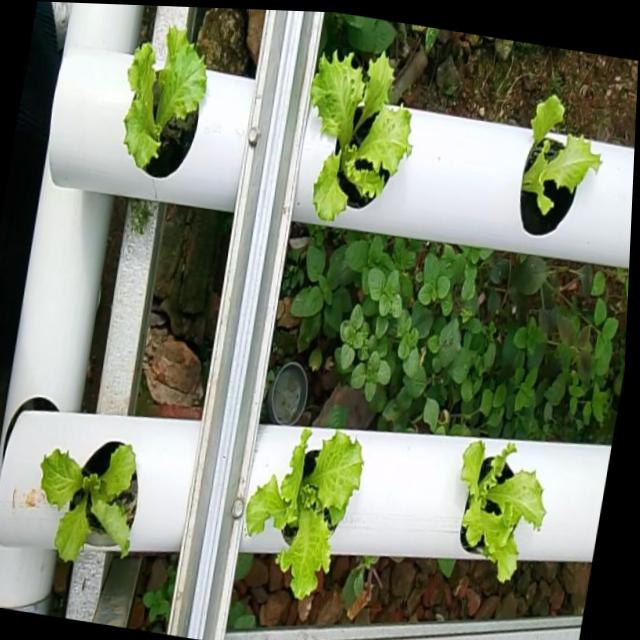Baby: (244, 424, 361, 595), (309, 36, 410, 218), (124, 22, 206, 174), (39, 435, 137, 556), (458, 439, 542, 580), (518, 95, 598, 236)
